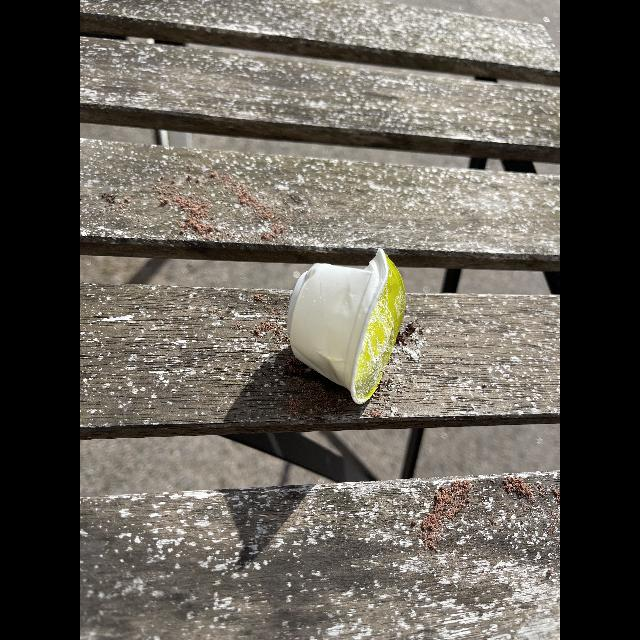damaged_capsule: (268, 246, 426, 416)
